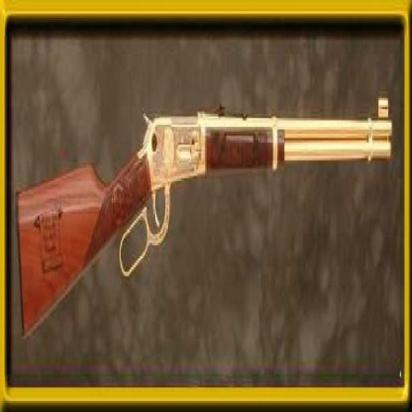Gun: (18, 91, 393, 338)
